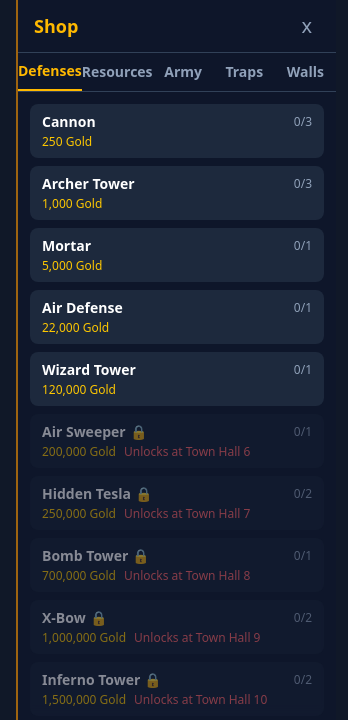
Test case: ShopPanel › shows trap items when the Traps tab is clicked
The width and height of the screenshot is (348, 720).
Click the button "Traps" at [244, 72], box [214,53,275,91]
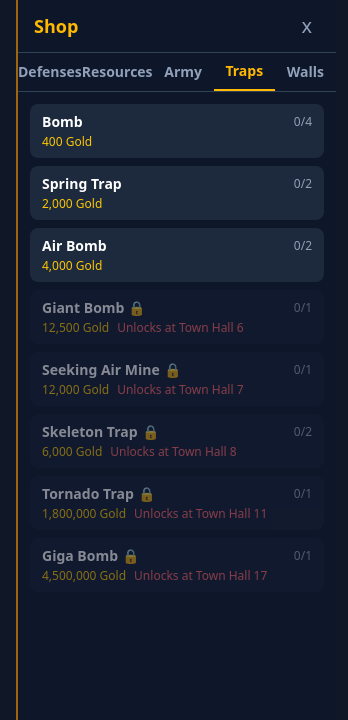
Now the text "Bomb" is shown, box [42,112,83,132]
Now the text "Spring Trap" is shown, box [42,174,122,194]
